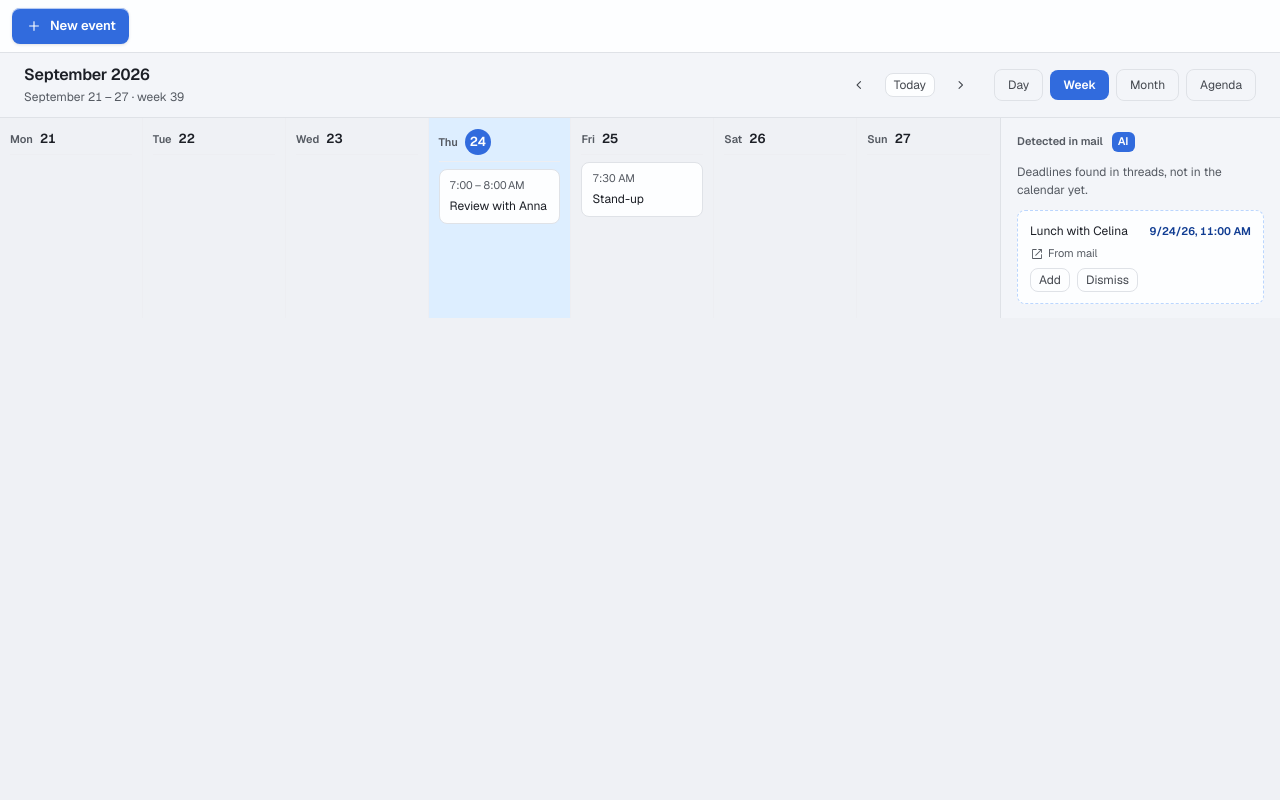
Test: CalendarSpace › opens the entry a plain press lands on rather than picking it out
Click the option "7:00 – 8:00 AM Review with Anna" at coordinates (500, 196), box [439,169,560,224]
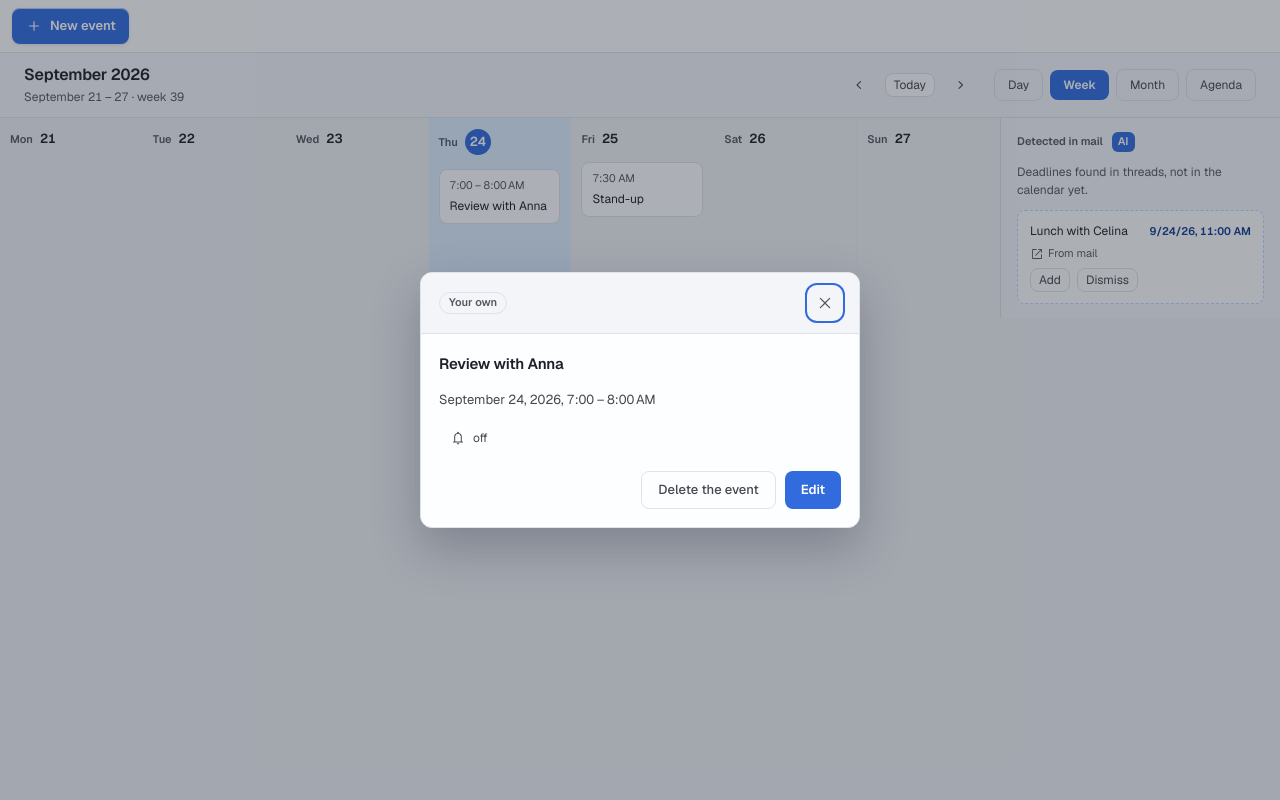
Check: the heading "Review with Anna" is shown, box [439,354,564,373]
